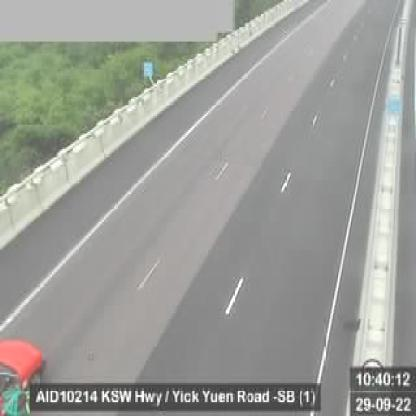Car: (0, 329, 53, 412)
